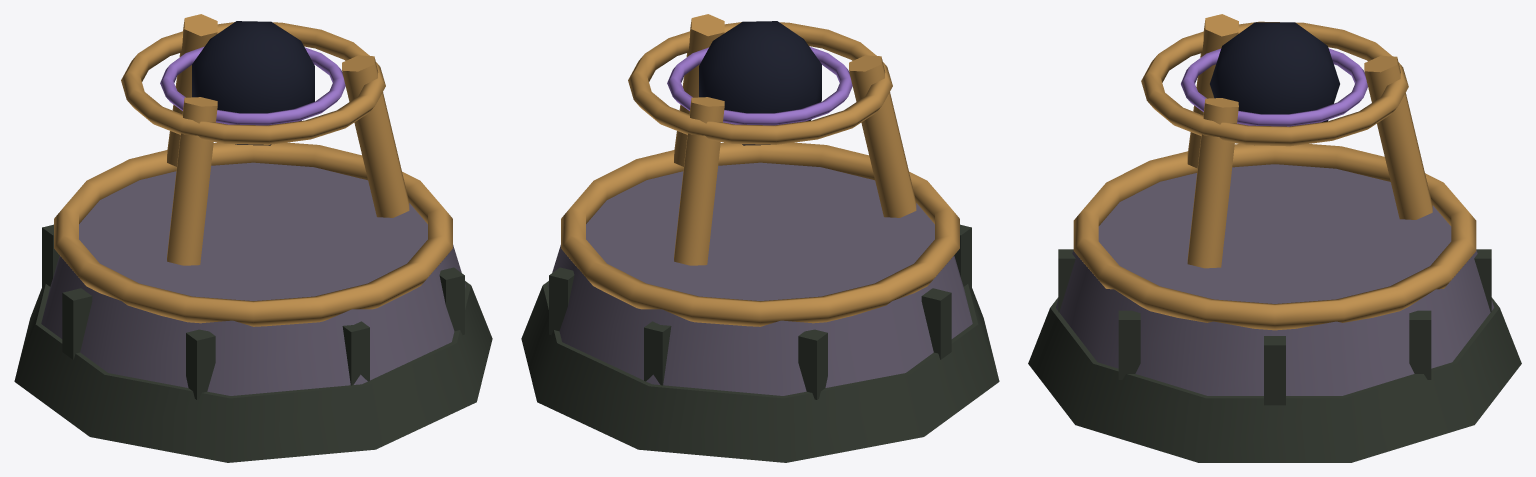
The model's file is tower_gravity.glb.
3 renders of one model, left to right at view 1: azimuth 30°, elevation 25°; view 2: azimuth 150°, elevation 25°; view 3: azimuth 270°, elevation 25°, orthographic.
Visible parts, largest first — view 1: stone_1, foot_0, rim_2, black_hole_11, orbit_16, claw_14, claw_13, accretion_15, claw_12, mortar_6, mortar_7, mortar_5 (+2 smaller); view 2: stone_1, foot_0, rim_2, black_hole_11, orbit_16, claw_12, claw_14, accretion_15, claw_13, mortar_8, mortar_7, mortar_9 (+2 smaller); view 3: stone_1, foot_0, rim_2, black_hole_11, orbit_16, claw_13, claw_12, accretion_15, claw_14, mortar_3, mortar_4, mortar_10 (+2 smaller).
Part boxes in pixels (x1,y1,x2,y2): stone_1: [41, 162, 465, 395]; foot_0: [14, 281, 492, 462]; rim_2: [54, 142, 452, 326]; black_hole_11: [192, 21, 314, 145]; orbit_16: [121, 22, 385, 144]; claw_14: [167, 97, 217, 265]; claw_13: [342, 55, 409, 217]; accretion_15: [160, 46, 345, 125]; claw_12: [167, 14, 217, 166]; mortar_6: [186, 329, 215, 399]; mortar_7: [62, 288, 92, 359]; mortar_5: [342, 321, 369, 385]; stone_1: [548, 162, 972, 395]; foot_0: [521, 281, 999, 462]; rim_2: [561, 142, 959, 326]; black_hole_11: [699, 21, 821, 145]; orbit_16: [628, 22, 892, 144]; claw_12: [674, 97, 724, 265]; claw_14: [849, 55, 916, 217]; accretion_15: [667, 46, 852, 125]; claw_13: [674, 14, 724, 166]; mortar_8: [798, 329, 827, 399]; mortar_7: [921, 288, 951, 359]; mortar_9: [644, 321, 671, 385]; stone_1: [1056, 164, 1493, 395]; foot_0: [1028, 297, 1521, 462]; rim_2: [1073, 144, 1476, 330]; black_hole_11: [1210, 22, 1339, 122]; orbit_16: [1141, 21, 1408, 146]; claw_13: [1187, 98, 1238, 268]; claw_12: [1364, 56, 1432, 219]; accretion_15: [1181, 48, 1367, 126]; claw_14: [1187, 14, 1238, 168]; mortar_3: [1264, 336, 1285, 405]; mortar_4: [1118, 310, 1140, 379]; mortar_10: [1409, 310, 1431, 379].
Size of the model in its own units: 0.5326 by 0.424 by 0.56.
